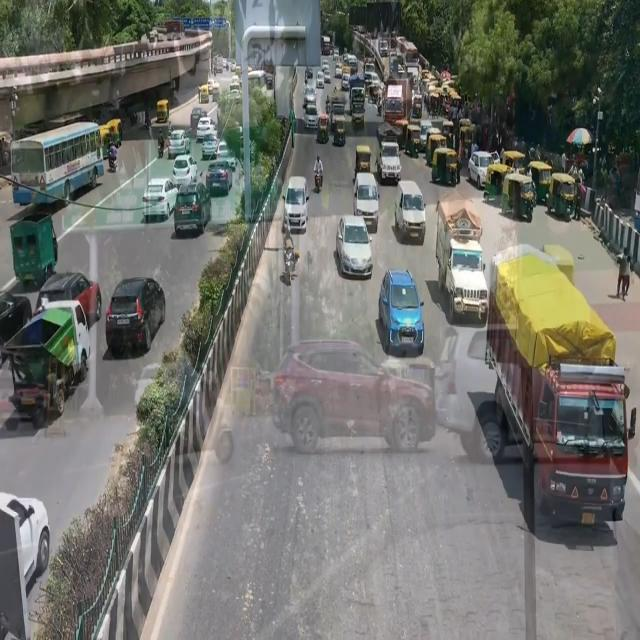Truck: (497, 260, 626, 532)
